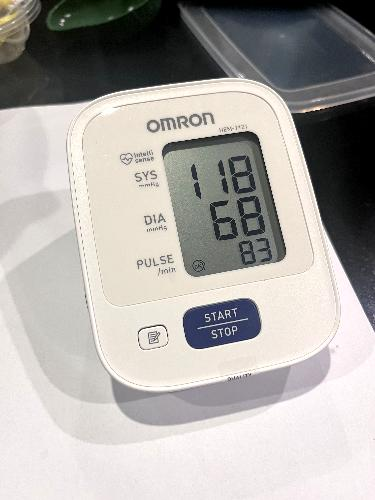bpm: (154, 119, 296, 285)
